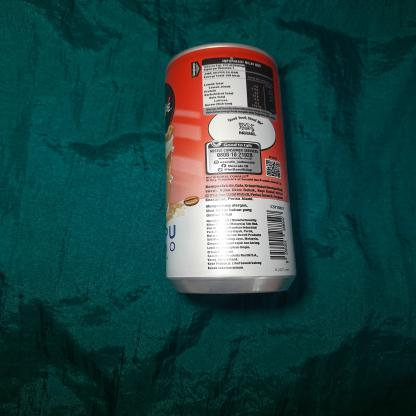can: (161, 38, 301, 300)
